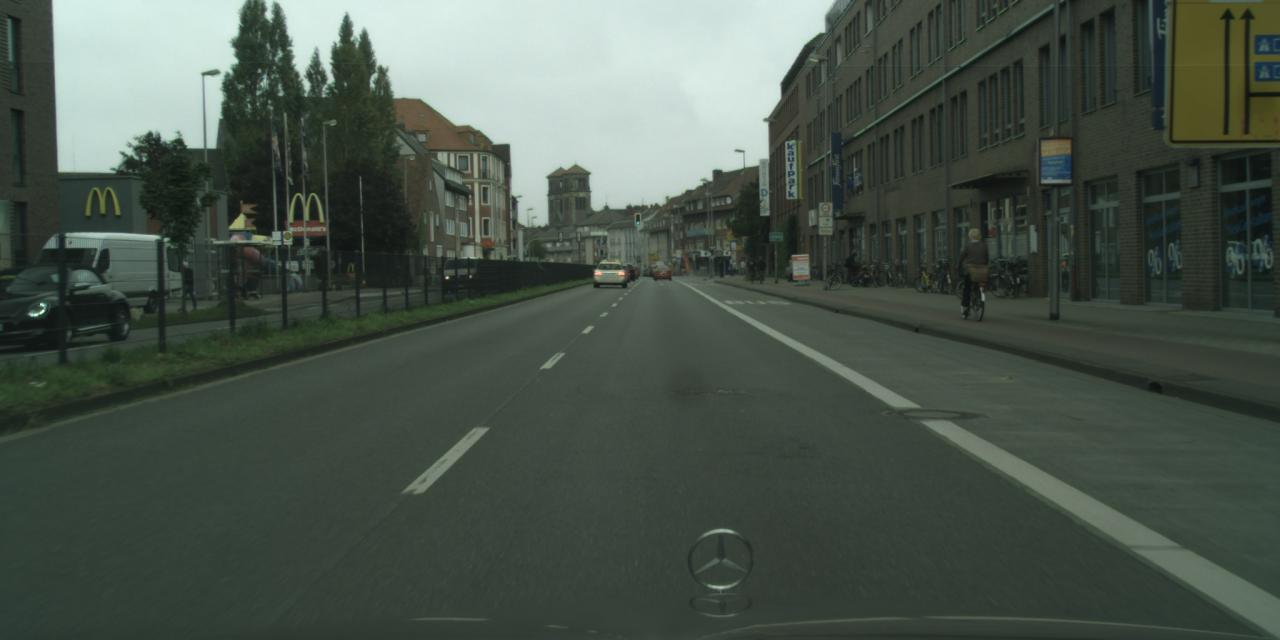ped: (956, 226, 989, 307), (846, 252, 859, 282), (786, 254, 796, 282), (746, 254, 756, 279), (756, 255, 765, 279)
